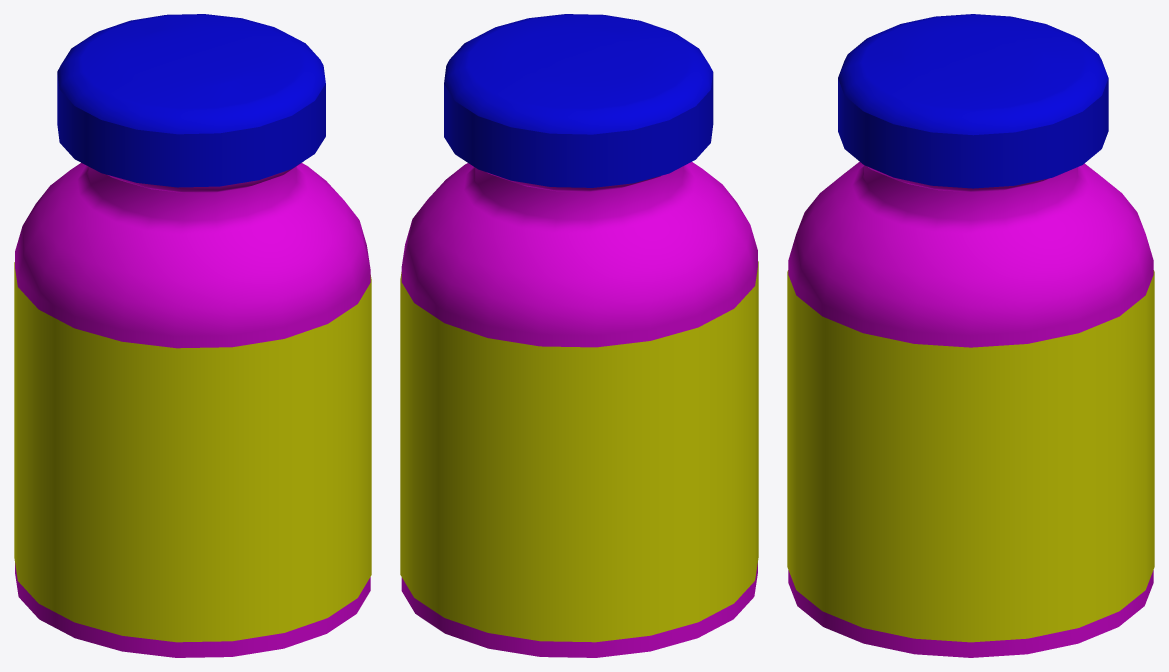
Rendered from Pill Bottle.fbx.
The picture shows the model from 3 angles, left to right: view 1: azimuth 30°, elevation 25°; view 2: azimuth 150°, elevation 25°; view 3: azimuth 270°, elevation 25°; orthographic projection.
Visible parts, largest first — view 1: polySurface5; view 2: polySurface5; view 3: polySurface5.
Boxes of the visible parts, x1=… form: polySurface5: x1=14, y1=14, x2=371, y2=657; polySurface5: x1=400, y1=14, x2=758, y2=657; polySurface5: x1=787, y1=14, x2=1154, y2=657.
Bounding box in the file's own units: 2.49 × 4.04 × 2.56.
